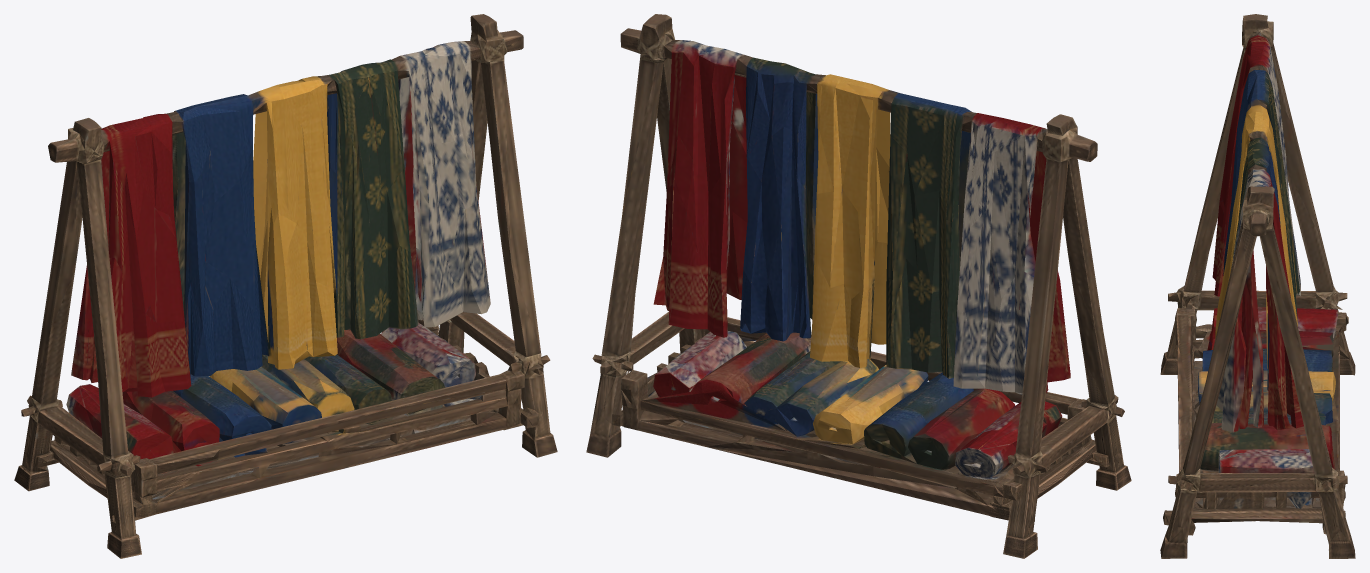
File: cloth_rack.glb
3 renders of one model, left to right at view 1: azimuth 30°, elevation 25°; view 2: azimuth 150°, elevation 25°; view 3: azimuth 270°, elevation 25°, orthographic. The views are drawn at different scales.
Parts seen in each view (by area): view 1: Mesh_0; view 2: Mesh_0; view 3: Mesh_0.
Boxes of the visible parts, <box> form: Mesh_0: <box>14,14,557,558</box>; Mesh_0: <box>586,14,1131,558</box>; Mesh_0: <box>1160,14,1355,558</box>.
Bounding box in the file's own units: 2 × 1.63 × 0.7955.
1 material, 1 textured.
